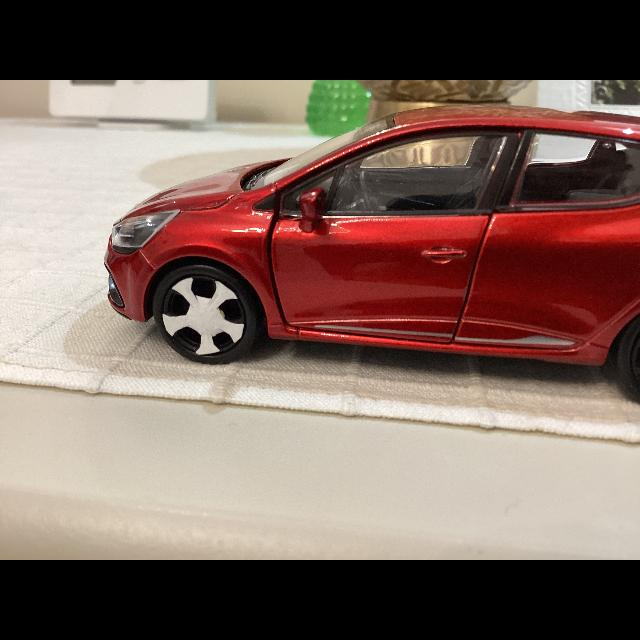Yanlis_Jant: (162, 277, 246, 359)
